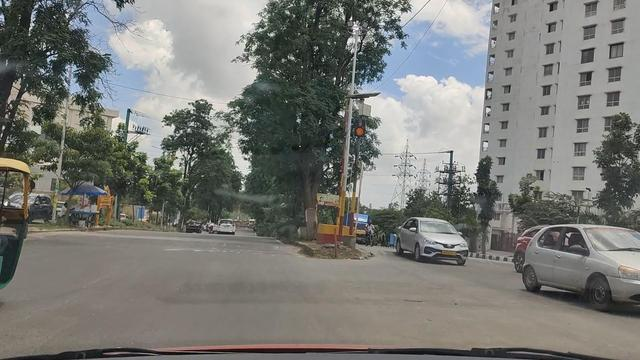LMV: (524, 222, 640, 303), (393, 210, 468, 264)
